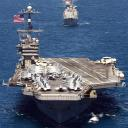Portanaves: (4, 4, 128, 128)
